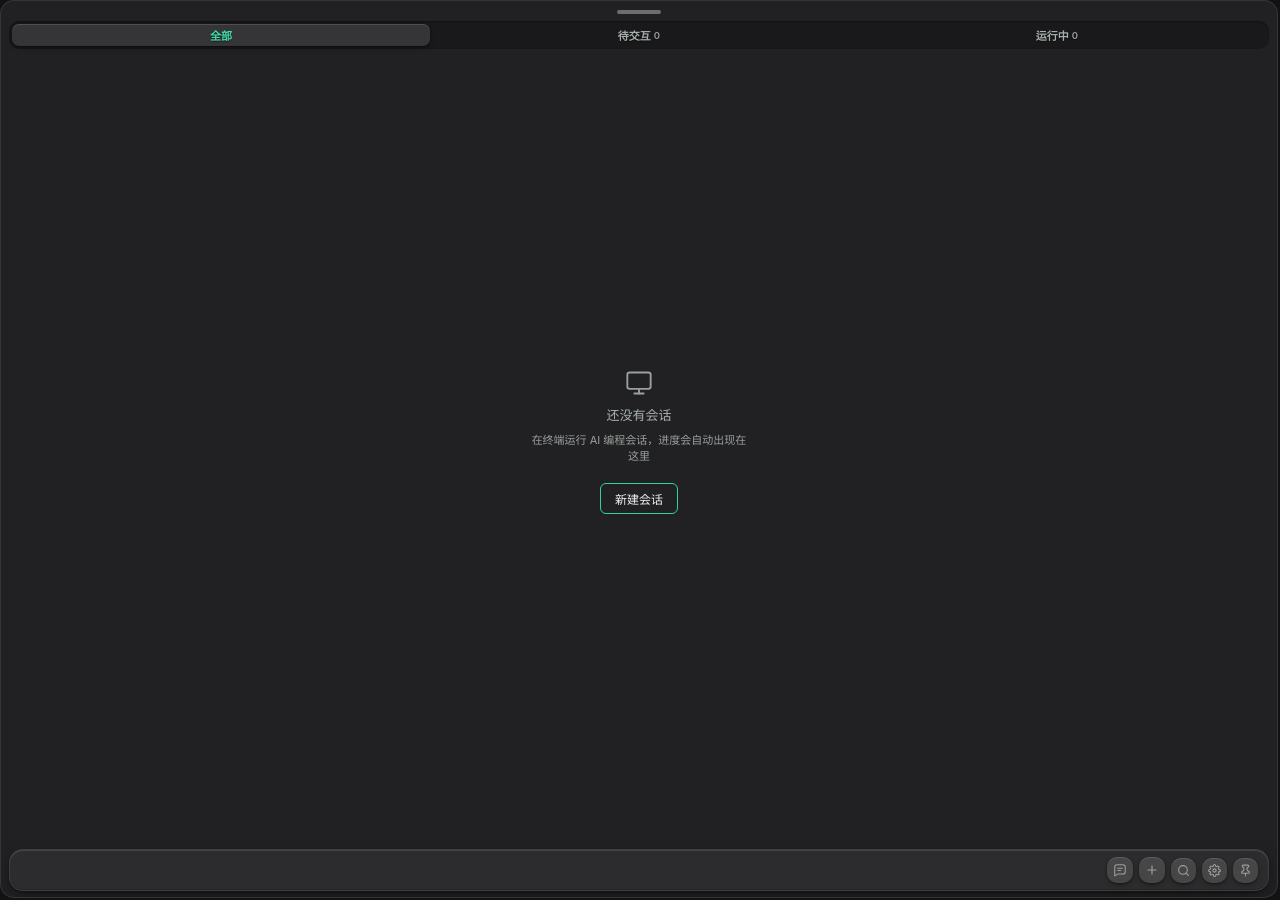
Test case: App › W-17：切换置顶经 set_sticker_window_state 落盘，不再写 localStorage
Click the button named "窗口置顶": (1246, 870) [1233,858,1258,882]
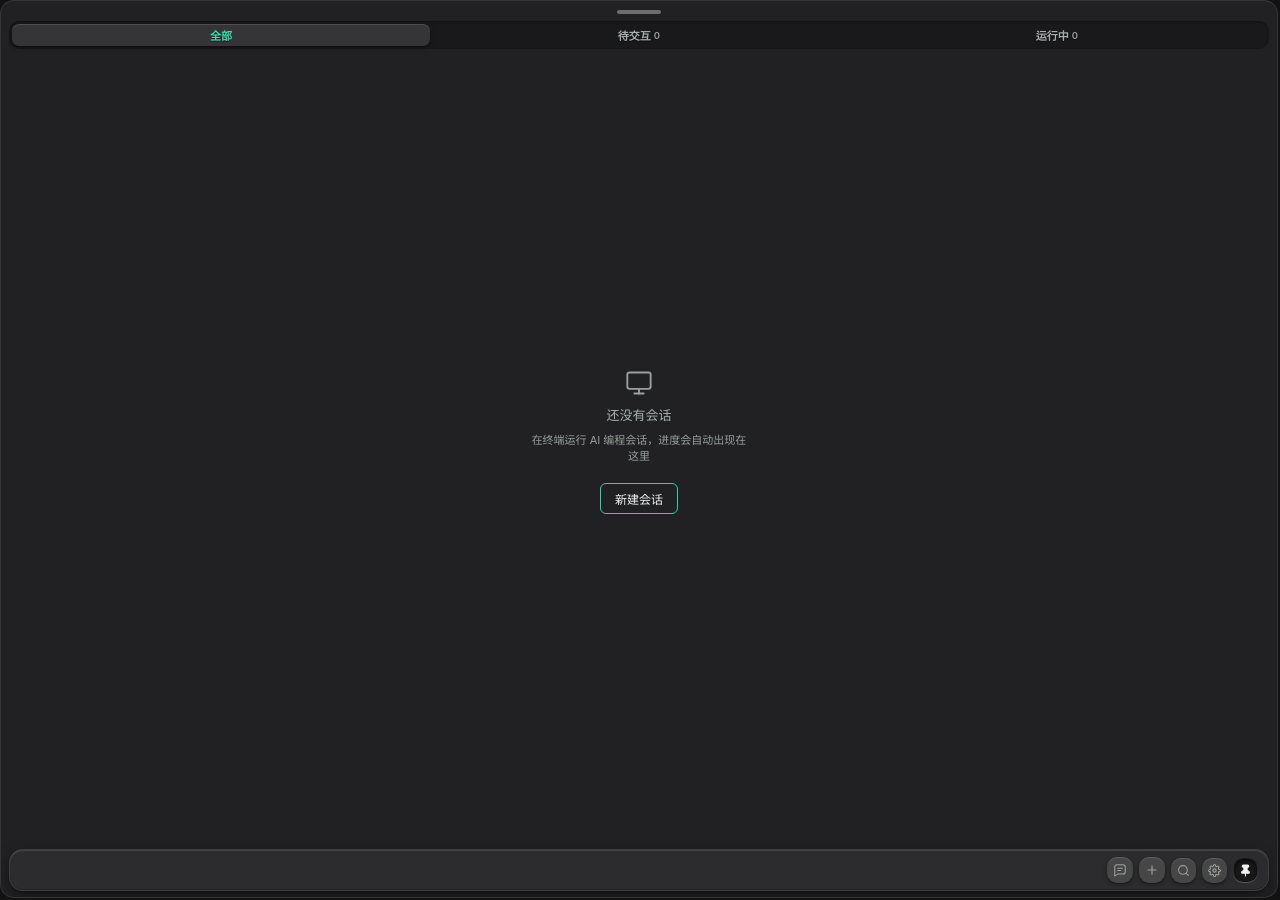
Result: the button named "取消窗口置顶" is shown at [1233,858,1258,882]
